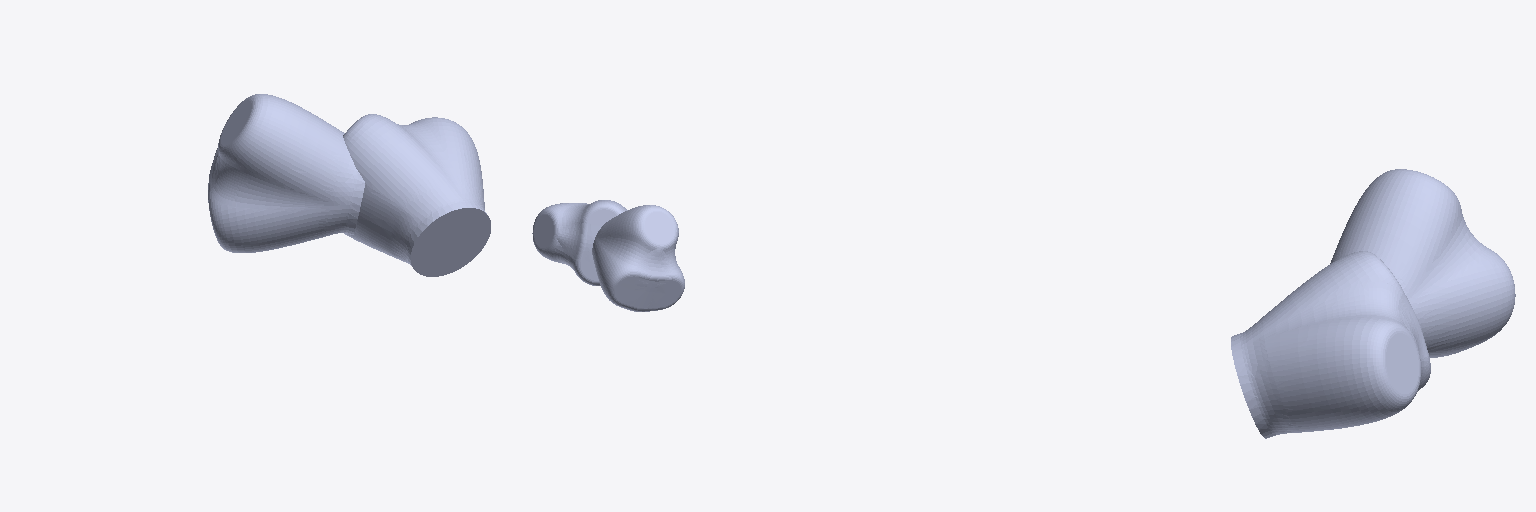
robot.urdf — jaco:
<robot name="jaco" >
  <link name="root">
    <visual>
      <origin rpy="0 0 0" xyz="0 0 0"/>
      <geometry>
        <box size="0 0 0"/>
        <!--making it slightly bigger in x and z direction-->
      </geometry>
      <!--<material name="Black" /> -->
    </visual>
    <collision>
      <origin rpy="0 0 0" xyz="0 0 0"/>
      <geometry>
        <box size="0 0 0"/>
        <!--making it slightly bigger in x and z direction-->
      </geometry>
    </collision>
  </link>

  <link name="jaco_link_base">
    <visual>
      <geometry>
        <mesh filename="package://jaco_model/meshes/jaco_link_base.dae"/>
      </geometry>
      <material name="carbon_fiber">
        <color rgba="0.792156862745098 0.819607843137255 0.933333333333333 1"/>
      </material>
    </visual>
    <collision>
      <geometry>
        <mesh filename="package://jaco_model/meshes/jaco_link_base.dae"/>
      </geometry>
    </collision>
  </link>

  <joint name="jaco_joint_base" type="fixed">
    <parent link="root"/>
    <child link="jaco_link_base"/>
    <axis xyz="0 0 0"/>
    <origin rpy="0 0 0" xyz="0 0 0"/>
  </joint>
  <link name="jaco_link_1">
    <visual>
      <geometry>
        <mesh filename="package://jaco_model/meshes/jaco_link_1.dae"/>
      </geometry>
      <material name="carbon_fiber">
        <color rgba="0.792156862745098 0.819607843137255 0.933333333333333 1"/>
      </material>
    </visual>
    <collision>
      <geometry>
        <mesh filename="package://jaco_model/meshes/jaco_link_1.dae"/>
      </geometry>
    </collision>
  </link>

  <joint name="jaco_joint_1" type="revolute">
    <parent link="jaco_link_base"/>
    <child link="jaco_link_1"/>
    <axis xyz="0 0 -1"/>
    <origin rpy="3.14159265359 0 3.14159265359" xyz="0 0 0.1535"/>
    <limit lower="-6.28" upper="6.28" effort="0.2" velocity="0.628" />
  </joint>
  <link name="jaco_link_2">
    <visual>
      <geometry>
        <mesh filename="package://jaco_model/meshes/jaco_link_2.dae"/>
      </geometry>
      <material name="carbon_fiber">
        <color rgba="0.792156862745098 0.819607843137255 0.933333333333333 1"/>
      </material>
    </visual>
    <collision>
      <geometry>
        <mesh filename="package://jaco_model/meshes/jaco_link_2.dae"/>
      </geometry>
    </collision>
  </link>
  <joint name="jaco_joint_2" type="revolute">
    <parent link="jaco_link_1"/>
    <child link="jaco_link_2"/>
    <axis xyz="0 0 1"/>
    <origin rpy="-1.57079632679 3.14159265359 0" xyz="0 0 -0.1185"/>
    <limit lower="-6.28" upper="6.28" effort="0.2" velocity="0.628" />
  </joint>
  <link name="jaco_link_3">
    <visual>
      <geometry>
        <mesh filename="package://jaco_model/meshes/jaco_link_3.dae"/>
      </geometry>
      <material name="carbon_fiber">
        <color rgba="0.792156862745098 0.819607843137255 0.933333333333333 1"/>
      </material>
    </visual>
    <collision>
      <geometry>
        <mesh filename="package://jaco_model/meshes/jaco_link_3.dae"/>
      </geometry>
    </collision>
  </link>
  <joint name="jaco_joint_3" type="revolute">
    <parent link="jaco_link_2"/>
    <child link="jaco_link_3"/>
    <axis xyz="0 0 -1"/>
    <origin rpy="3.14159265359 0 1.57079632679" xyz="0.41 0 0"/>
    <limit lower="-6.28" upper="6.28" effort="0.2" velocity="0.628" />
  </joint>
  <link name="jaco_link_4">
    <visual>
      <geometry>
        <mesh filename="package://jaco_model/meshes/jaco_link_4.dae"/>
      </geometry>
      <material name="carbon_fiber">
        <color rgba="0.792156862745098 0.819607843137255 0.933333333333333 1"/>
      </material>
    </visual>
    <collision>
      <geometry>
        <mesh filename="package://jaco_model/meshes/jaco_link_4.dae"/>
      </geometry>
    </collision>
  </link>
  <joint name="jaco_joint_4" type="revolute">
    <parent link="jaco_link_3"/>
    <child link="jaco_link_4"/>
    <axis xyz="0 0 -1"/>
    <origin rpy="3.14159265359 1.57079632679 0" xyz="0.207 0 -0.01125"/>
    <limit lower="-6.28" upper="6.28" effort="0.2" velocity="0.628" />
  </joint>
  <link name="jaco_link_5">
    <visual>
      <geometry>
        <mesh filename="package://jaco_model/meshes/jaco_link_5.dae"/>
      </geometry>
      <material name="carbon_fiber">
        <color rgba="0.792156862745098 0.819607843137255 0.933333333333333 1"/>
      </material>
    </visual>
    <collision>
      <geometry>
        <mesh filename="package://jaco_model/meshes/jaco_link_5.dae"/>
      </geometry>
    </collision>
  </link>
  <joint name="jaco_joint_5" type="revolute">
    <parent link="jaco_link_4"/>
    <child link="jaco_link_5"/>
    <axis xyz="0 0 -1"/>
    <origin rpy="0 -0.959931088597 0" xyz="0.0343 0 -0.06588"/>
    <limit lower="-6.28" upper="6.28" effort="0.2" velocity="0.628" />
  </joint>
  <link name="jaco_link_6">
    <visual>
      <geometry>
        <mesh filename="package://jaco_model/meshes/jaco_link_hand.dae"/>
      </geometry>
      <material name="carbon_fiber">
        <color rgba="0.792156862745098 0.819607843137255 0.933333333333333 1"/>
      </material>
    </visual>
    <collision>
      <geometry>
        <mesh filename="package://jaco_model/meshes/jaco_link_hand.dae"/>
      </geometry>
    </collision>
  </link>
  <joint name="jaco_joint_6" type="revolute">
    <parent link="jaco_link_5"/>
    <child link="jaco_link_6"/>
    <axis xyz="0 0 -1"/>
    <origin rpy="-0.959931088597 0 1.57079632679" xyz="0.0343 0 -0.06588"/>
    <limit lower="-6.28" upper="6.28" effort="0.2" velocity="0.628" />
  </joint>
  <link name="jaco_link_hand">
    <visual>
      <geometry>
        <mesh filename="package://jaco_model/meshes/jaco_link_hand.dae"/>
      </geometry>
      <material name="carbon_fiber">
        <color rgba="0.792156862745098 0.819607843137255 0.933333333333333 1"/>
      </material>
    </visual>
    <collision>
      <geometry>
        <mesh filename="package://jaco_model/meshes/jaco_link_hand.dae"/>
      </geometry>
    </collision>
  </link>
  <joint name="jaco_joint_hand" type="fixed">
    <parent link="jaco_link_6"/>
    <child link="jaco_link_hand"/>
    <axis xyz="0 0 1"/>
    <origin rpy="-0.959931088597 0 1.57079632679" xyz="0.0343 0 -0.06588"/>
  </joint>
</robot>

--- Render facts (derived) ---
3 views of the same robot in one strip: view 1: azimuth 30°, elevation 25°; view 2: azimuth 150°, elevation 25°; view 3: azimuth 270°, elevation 25° (orthographic).
Model jaco with 9 links and 8 joints (6 revolute, 2 fixed), rooted at root, posed every joint at zero.
Links seen in each view (by area): view 1: jaco_link_hand, jaco_link_6; view 2: jaco_link_hand, jaco_link_6; view 3: jaco_link_6, jaco_link_hand.
Link boxes in pixels (<box>): jaco_link_hand: <box>208,94,364,252</box>; jaco_link_6: <box>343,114,490,276</box>; jaco_link_hand: <box>592,205,684,311</box>; jaco_link_6: <box>532,200,627,285</box>; jaco_link_6: <box>1231,251,1430,438</box>; jaco_link_hand: <box>1330,169,1515,357</box>.
Size in the robot's own frame: 0.4681 by 0.2743 by 0.1235 metres.
2 mesh visuals loaded from 7 distinct referenced files (1 Collada DAE); not drawn: 6 (reference not matched to a file when rendering).